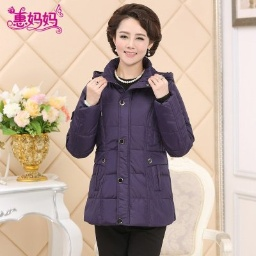face: (101, 1, 164, 66)
